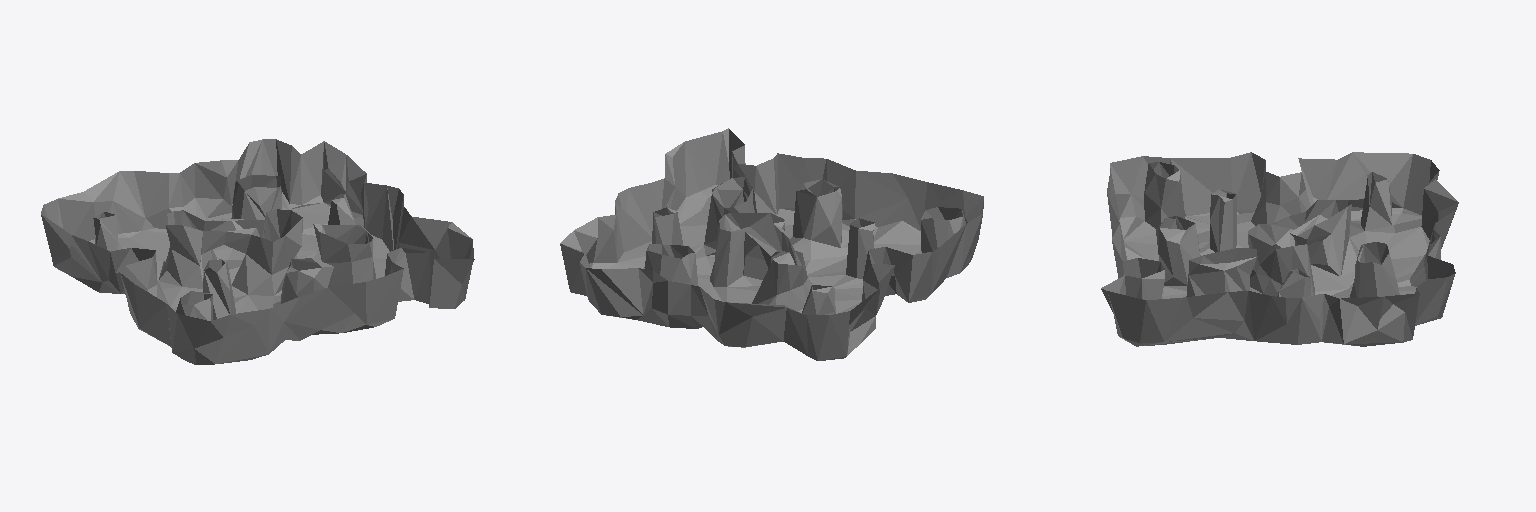
The model's file is collision_hull.obj.
The picture shows the model from 3 angles: view 1: azimuth 30°, elevation 25°; view 2: azimuth 150°, elevation 25°; view 3: azimuth 270°, elevation 25°; orthographic projection.
Visible parts, largest first — view 1: collisionhull; view 2: collisionhull; view 3: collisionhull.
Boxes of the visible parts, x1=… form: collisionhull: x1=41, y1=139, x2=474, y2=364; collisionhull: x1=560, y1=128, x2=983, y2=360; collisionhull: x1=1101, y1=152, x2=1458, y2=346.
Bounding box in the file's own units: 618 × 125 × 639.